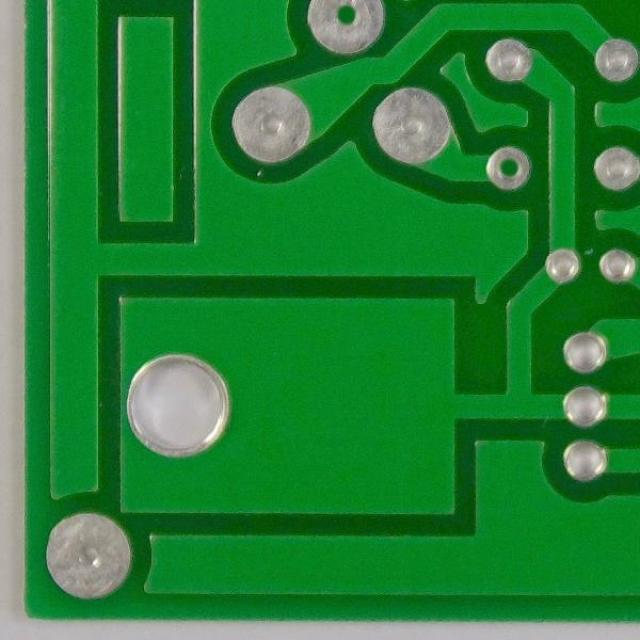missing_hole: (312, 1, 378, 44), (481, 148, 530, 188)
